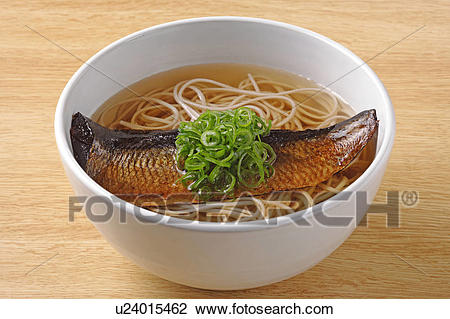Soba: (113, 76, 355, 132)
